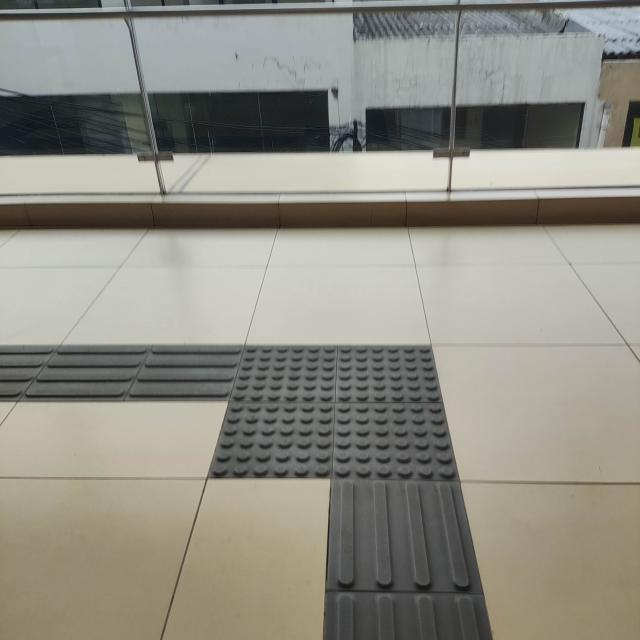kiri: (65, 281, 503, 524)
